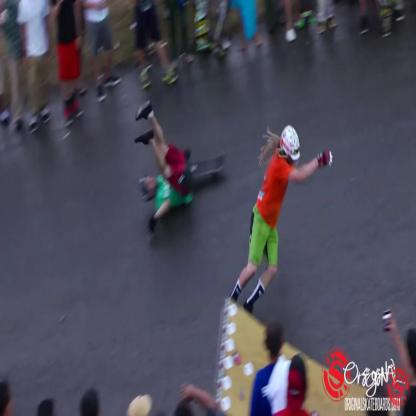Fall_Down: (132, 101, 197, 239)
